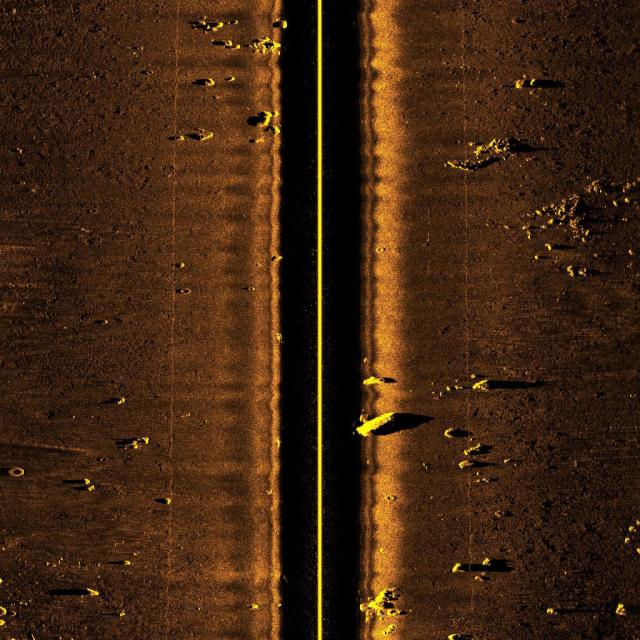mine: (359, 368, 396, 388), (446, 453, 476, 476), (438, 423, 475, 439), (609, 601, 628, 616)
other: (352, 407, 399, 447), (41, 584, 104, 598), (0, 460, 32, 481)
